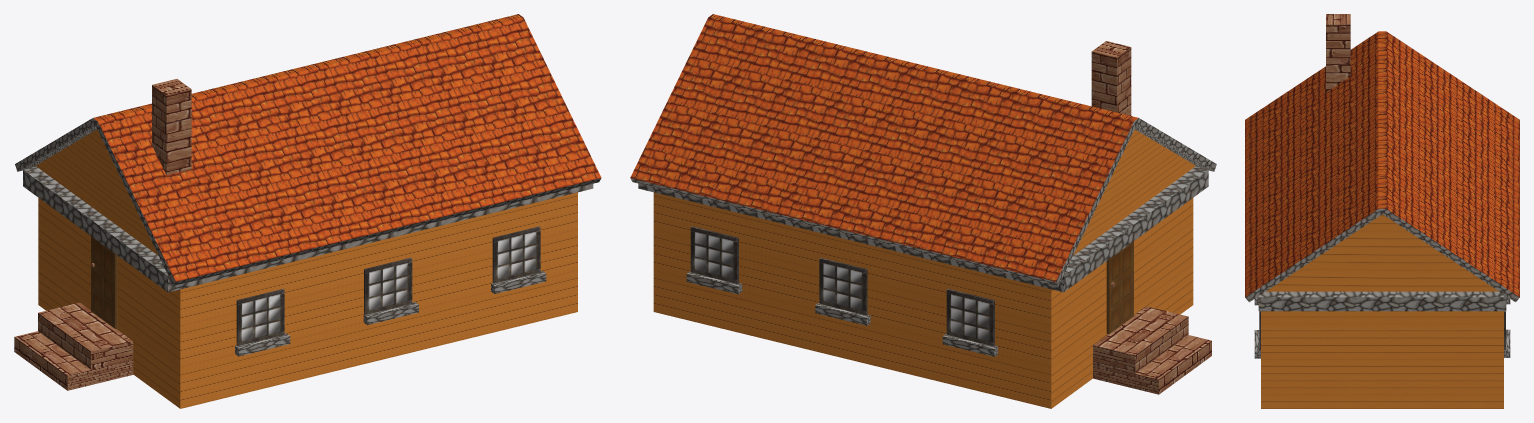
Rendered from house.glb.
3 views of the same model, side by side, from view 1: azimuth 30°, elevation 25°; view 2: azimuth 150°, elevation 25°; view 3: azimuth 270°, elevation 25° (orthographic). The views are drawn at different scales.
Parts seen in each view (by area): view 1: House; view 2: House; view 3: House.
Boxes of the visible parts, x1,y1,x2,y2 form: House: [14, 14, 601, 408]; House: [630, 14, 1216, 408]; House: [1245, 14, 1519, 408].
Size of the model in its own units: 20.28 by 11.36 by 11.83.
7 materials, 7 textured.
